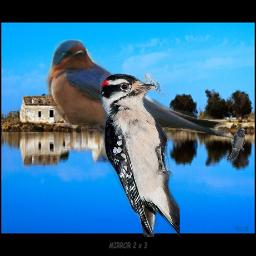Swallow: (45, 39, 246, 142), (229, 128, 245, 159)
Woodpecker: (100, 73, 180, 237)
